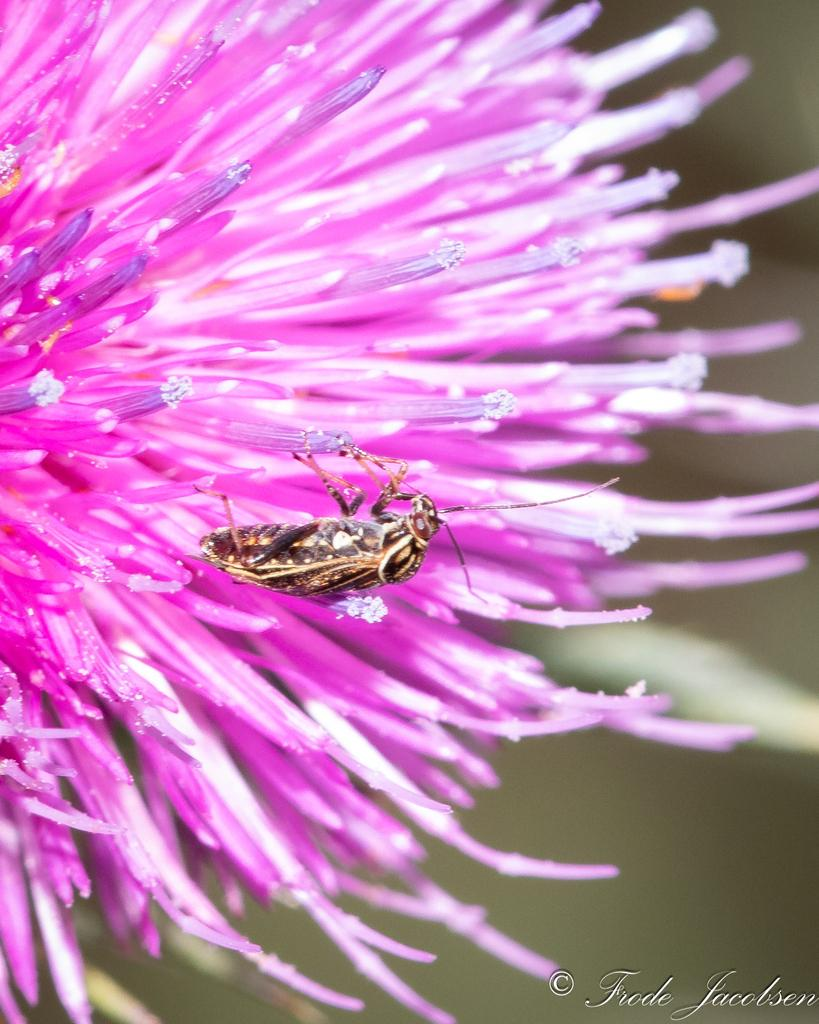plant_bugs: (152, 400, 649, 643)
